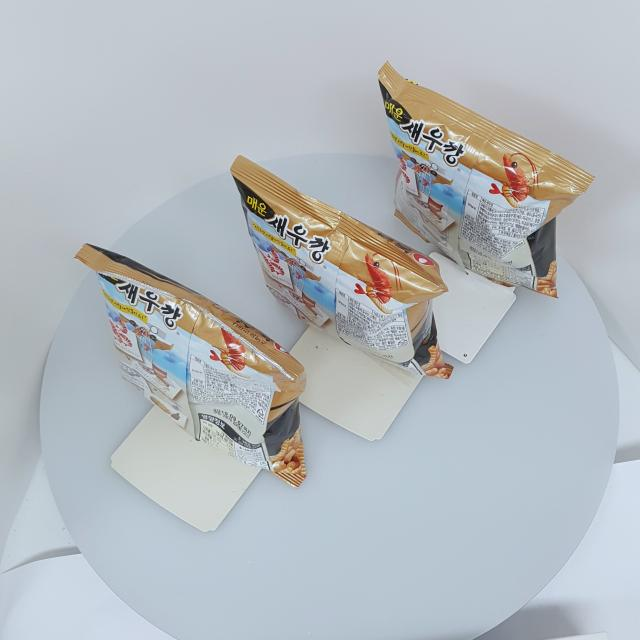-90G: (74, 244, 308, 490), (378, 61, 597, 300), (230, 156, 455, 380)
